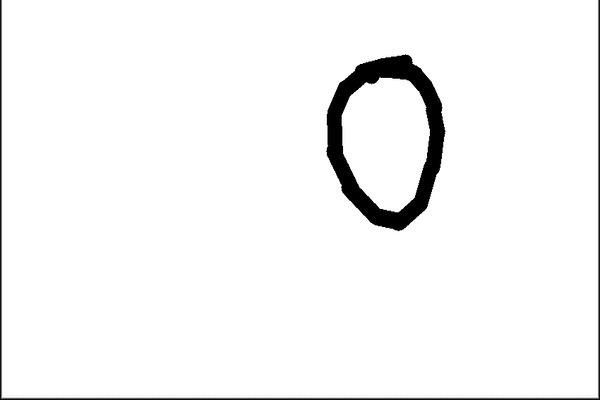O: (314, 46, 449, 239)
